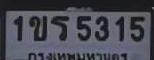1: (13, 15, 22, 40), (115, 15, 123, 40)
3: (94, 15, 108, 40)
5: (129, 16, 144, 41), (76, 15, 90, 40)
A02: (28, 15, 46, 40)
A35: (50, 15, 68, 40)
